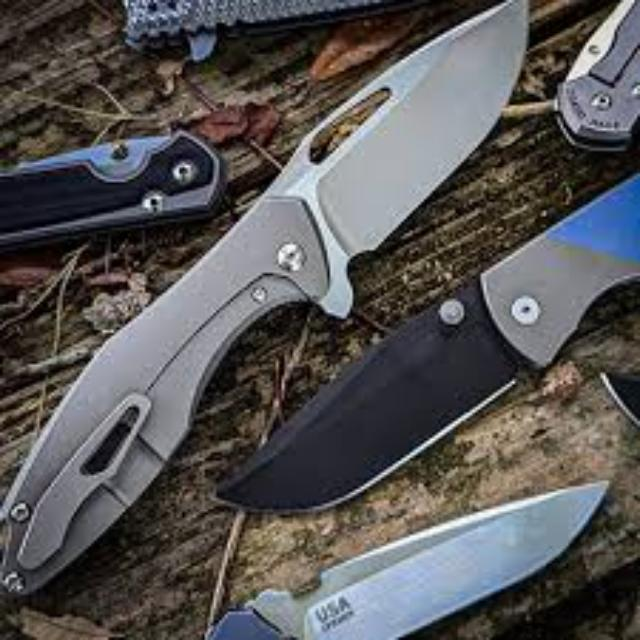knife: (1, 0, 530, 598), (211, 113, 637, 514), (194, 478, 608, 638)
